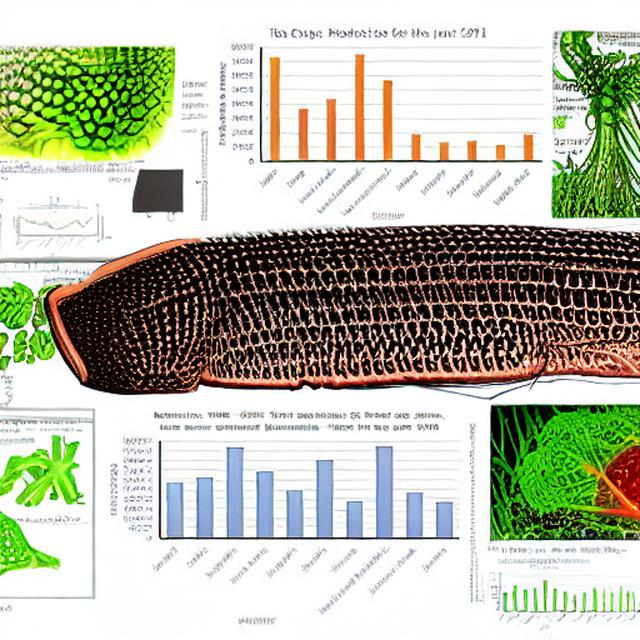Graph: (98, 404, 463, 626), (210, 21, 550, 222), (485, 557, 601, 632), (9, 204, 96, 254)
